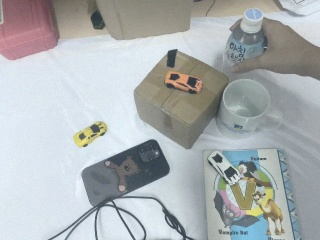book: (203, 147, 308, 240)
bottle: (222, 8, 269, 74)
box: (133, 47, 230, 150), (87, 1, 194, 42)
cup: (216, 79, 285, 135)
phone: (80, 137, 171, 201)
toy_car: (208, 150, 241, 186), (163, 67, 202, 96), (73, 121, 107, 148)
